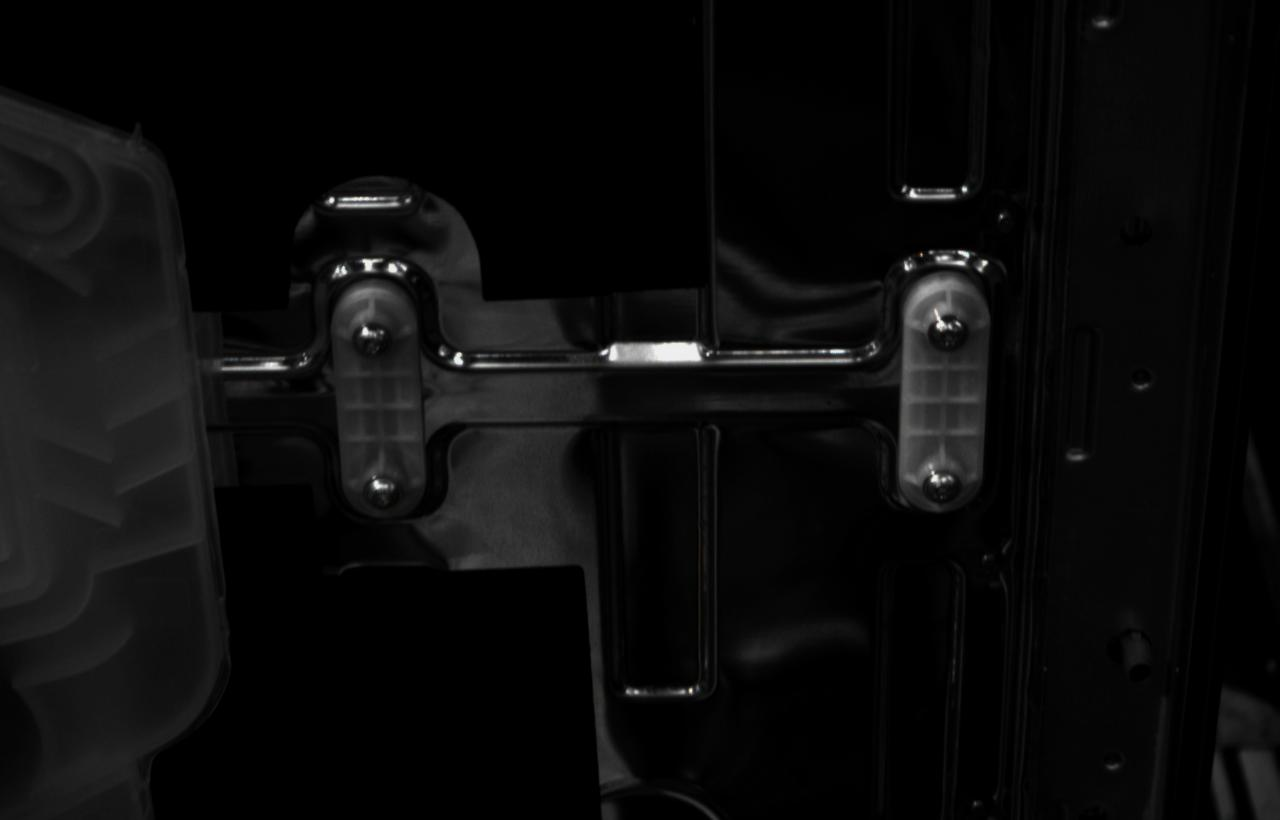vida-ok: (928, 314, 969, 352), (922, 470, 963, 505), (352, 322, 391, 358), (361, 476, 400, 511)
